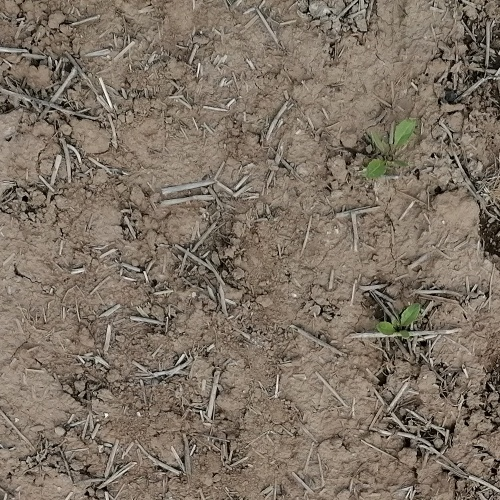beet: (369, 121, 417, 179), (375, 304, 420, 341)
